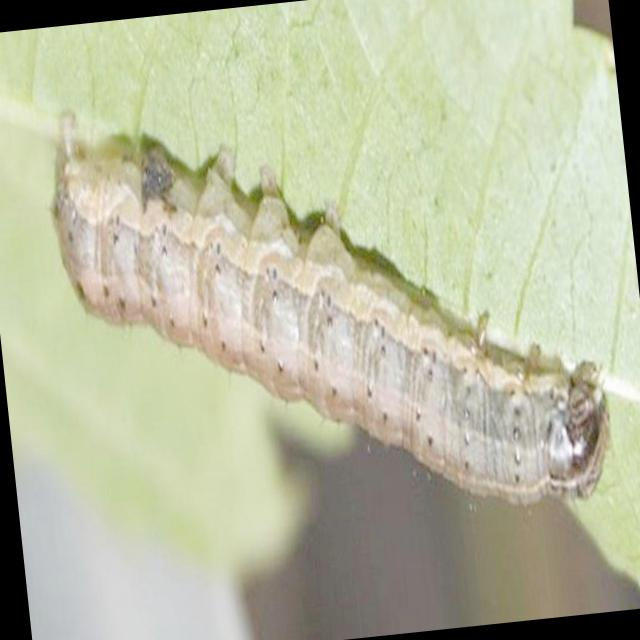pest: (49, 91, 603, 552)
